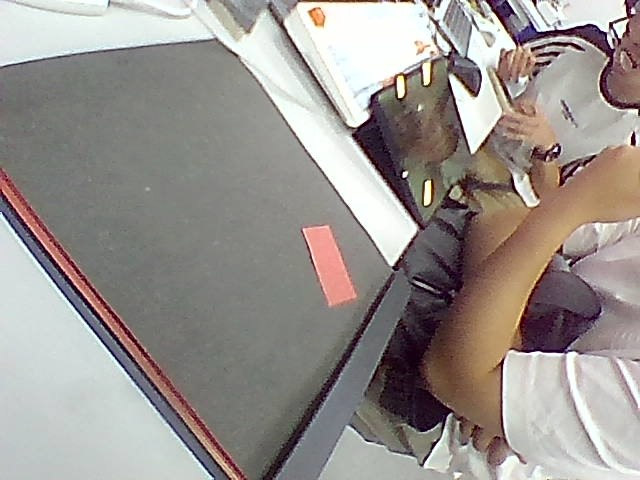card: (303, 226, 356, 305)
